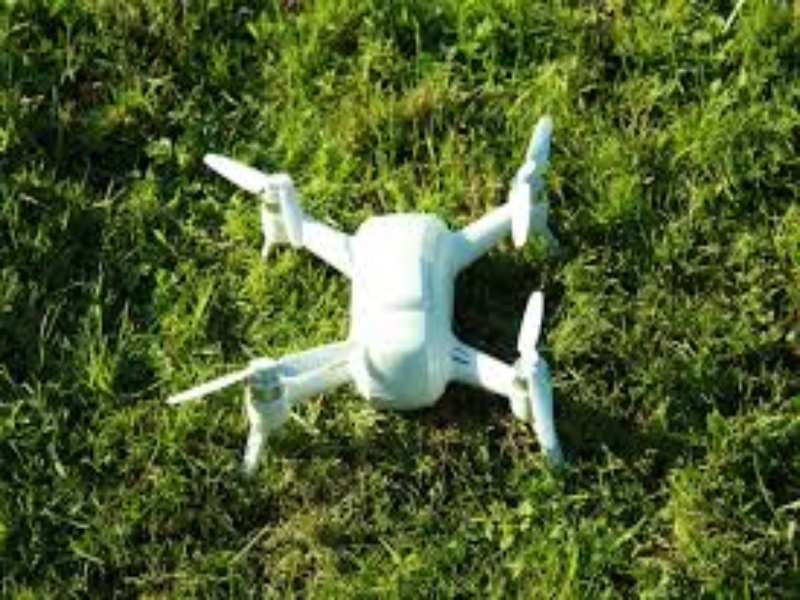drone: (166, 112, 575, 460)
